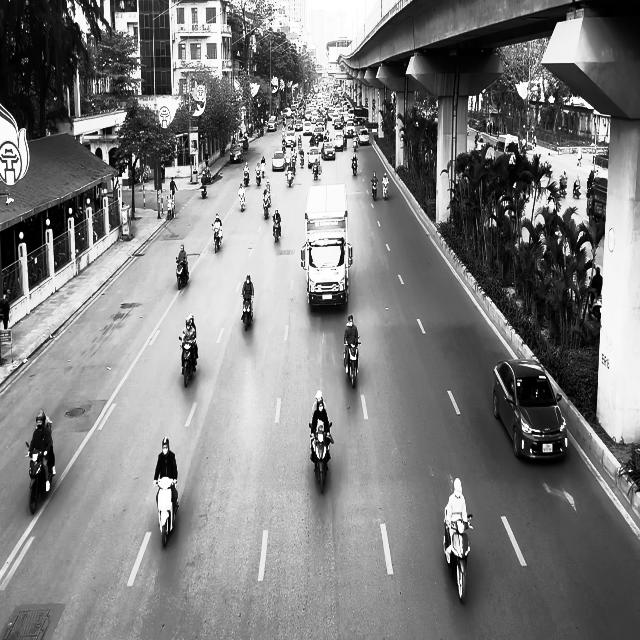car: (492, 358, 568, 462), (229, 144, 243, 163), (272, 150, 285, 170), (322, 142, 336, 160), (359, 128, 369, 145)
motorbike: (442, 507, 472, 603), (25, 441, 55, 514), (154, 477, 179, 548), (309, 421, 333, 494), (178, 336, 198, 387), (343, 338, 360, 388), (241, 293, 253, 331), (175, 257, 189, 289), (212, 225, 222, 253), (262, 192, 271, 218), (272, 218, 281, 242), (285, 166, 294, 186), (370, 178, 378, 200), (312, 162, 321, 180), (238, 190, 245, 212), (572, 182, 581, 198), (382, 180, 389, 200), (352, 156, 358, 176), (256, 169, 261, 186)
truck: (300, 183, 353, 311)
